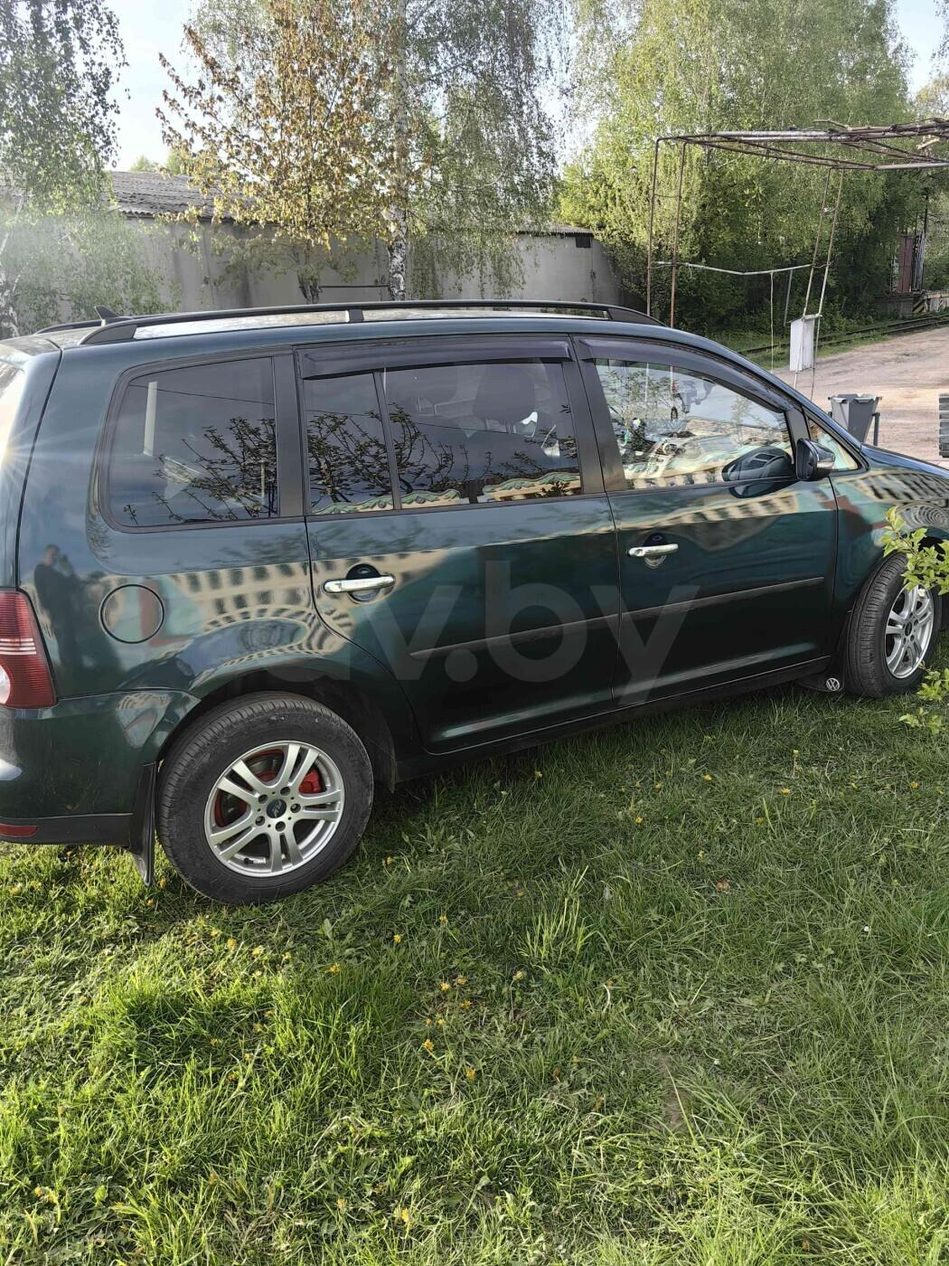Touran_2006-2010: (0, 300, 949, 908)
